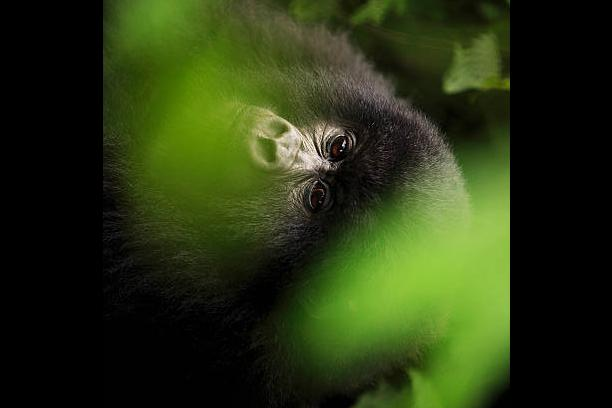goriile_montagne: (147, 0, 476, 381)
